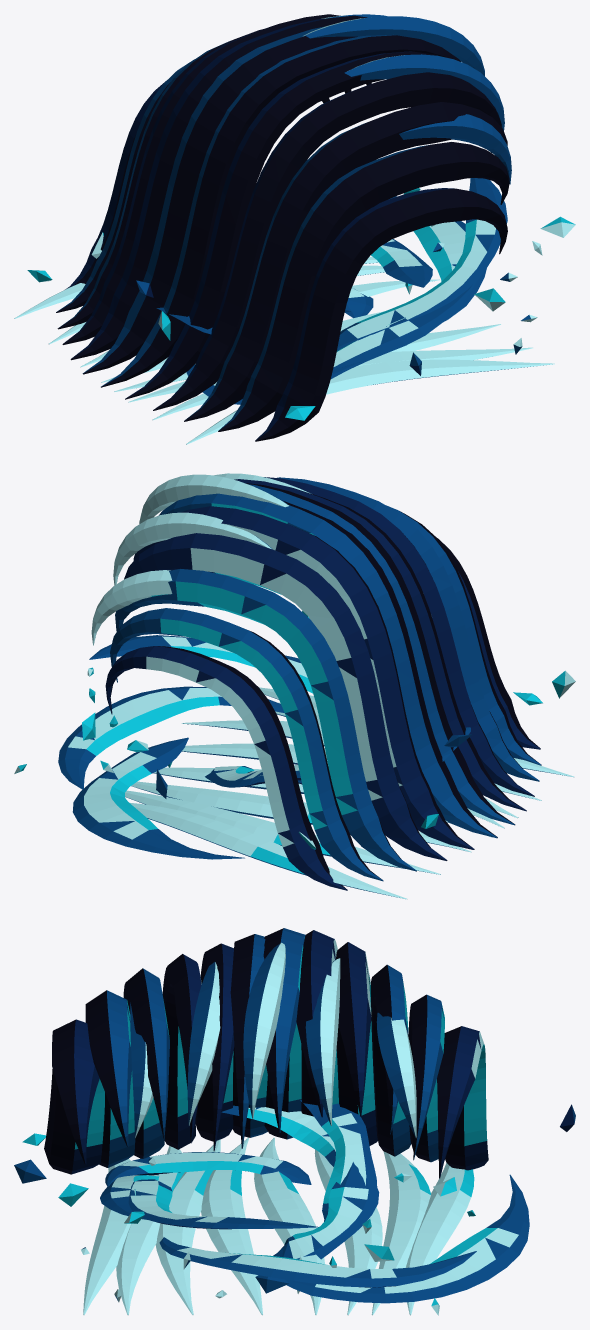
The model's file is Tidal_Surge.fbx.
3 renders of one model, top to bottom at view 1: azimuth 30°, elevation 25°; view 2: azimuth 150°, elevation 25°; view 3: azimuth 270°, elevation 25°, orthographic. The views are drawn at different scales.
Parts seen in each view (by area): view 1: Breaking_Water_02, SURGE_IMPACT, Breaking_Water_04, Breaking_Water_03, Breaking_Water_01, Breaking_Water_06, Breaking_Water_05, Breaking_Water_07, Breaking_Water_08, Breaking_Water_09, Foam_Streak_1, Crest_Foam_3 (+9 smaller); view 2: SURGE_IMPACT, Breaking_Water_09, Breaking_Water_10, Breaking_Water_08, Breaking_Water_11, Breaking_Water_12, Breaking_Water_07, Breaking_Water_06, Breaking_Water_04, Breaking_Water_03, Breaking_Water_05, Foam_Streak_8 (+10 smaller); view 3: SURGE_IMPACT, Breaking_Water_01, Breaking_Water_12, Breaking_Water_02, Breaking_Water_09, Breaking_Water_07, Breaking_Water_04, Breaking_Water_03, Breaking_Water_11, Breaking_Water_05, Breaking_Water_10, Breaking_Water_06 (+14 smaller).
Part boxes in pixels (x1,y1,x2,y2): Breaking_Water_02: (218, 142, 509, 431); SURGE_IMPACT: (27, 178, 575, 420); Breaking_Water_04: (153, 72, 501, 410); Breaking_Water_03: (184, 102, 507, 421); Breaking_Water_01: (255, 188, 507, 441); Breaking_Water_06: (101, 34, 460, 387); Breaking_Water_05: (125, 51, 491, 399); Breaking_Water_07: (82, 26, 357, 374); Breaking_Water_08: (70, 15, 367, 360); Breaking_Water_09: (62, 14, 340, 344); Foam_Streak_1: (186, 359, 554, 444); Crest_Foam_3: (303, 16, 484, 76); SURGE_IMPACT: (58, 611, 575, 859); Breaking_Water_09: (124, 533, 447, 860); Breaking_Water_10: (115, 569, 416, 871); Breaking_Water_08: (133, 506, 474, 849); Breaking_Water_11: (110, 608, 383, 881); Breaking_Water_12: (105, 646, 347, 890); Breaking_Water_07: (159, 493, 497, 838); Breaking_Water_06: (245, 483, 515, 825); Breaking_Water_04: (264, 477, 534, 796); Breaking_Water_03: (277, 477, 539, 781); Breaking_Water_05: (234, 479, 526, 811); Foam_Streak_8: (129, 802, 406, 899); SURGE_IMPACT: (14, 1100, 575, 1303); Breaking_Water_01: (44, 1019, 104, 1174); Breaking_Water_12: (437, 1026, 488, 1178); Breaking_Water_02: (85, 990, 135, 1167); Breaking_Water_09: (336, 942, 377, 1145); Breaking_Water_07: (263, 928, 305, 1139); Breaking_Water_04: (162, 954, 201, 1149); Breaking_Water_03: (123, 968, 169, 1158); Breaking_Water_11: (408, 994, 444, 1162); Breaking_Water_05: (195, 943, 234, 1151); Breaking_Water_10: (371, 964, 411, 1156); Breaking_Water_06: (230, 934, 267, 1148).
Bounding box in the file's own units: 636 × 434 × 725.
